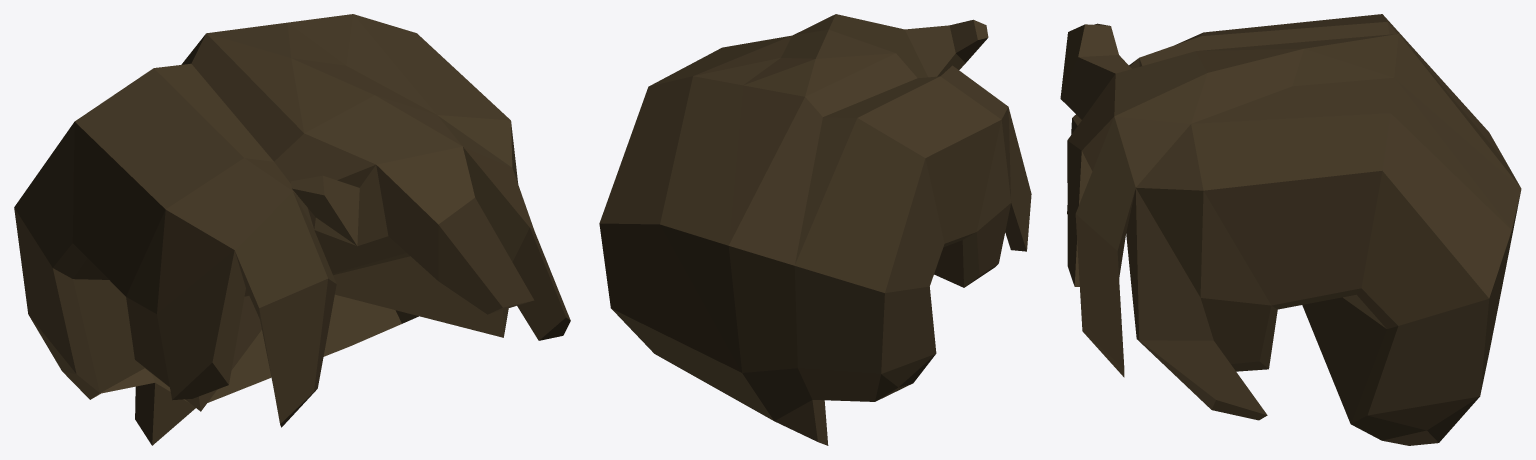
File: Chr_Hair_07_Static.fbx
3 renders of one model, left to right at view 1: azimuth 30°, elevation 25°; view 2: azimuth 150°, elevation 25°; view 3: azimuth 270°, elevation 25°, orthographic. The views are drawn at different scales.
Parts seen in each view (by area): view 1: Chr_Hair_07_Static; view 2: Chr_Hair_07_Static; view 3: Chr_Hair_07_Static.
Boxes of the visible parts, x1,y1,x2,y2 form: Chr_Hair_07_Static: (14, 14, 570, 445); Chr_Hair_07_Static: (599, 14, 1031, 445); Chr_Hair_07_Static: (1060, 14, 1521, 445).
Bounding box in the file's own units: 0.2757 × 0.265 × 0.2767.
